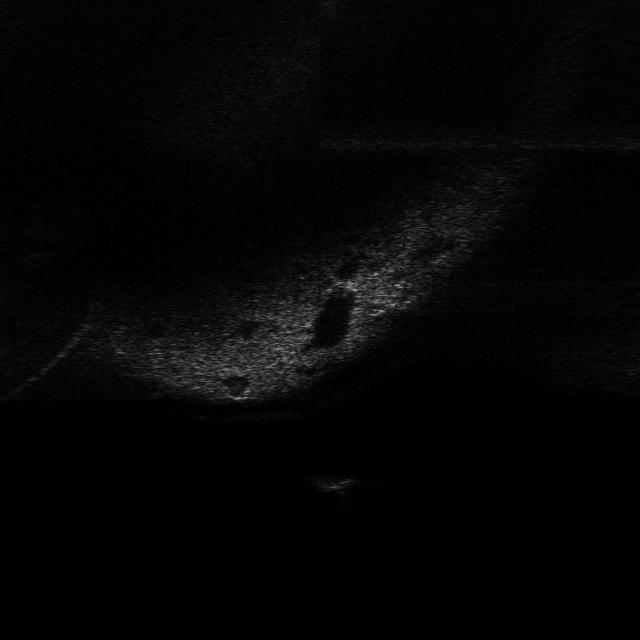cube: (302, 471, 364, 496)
